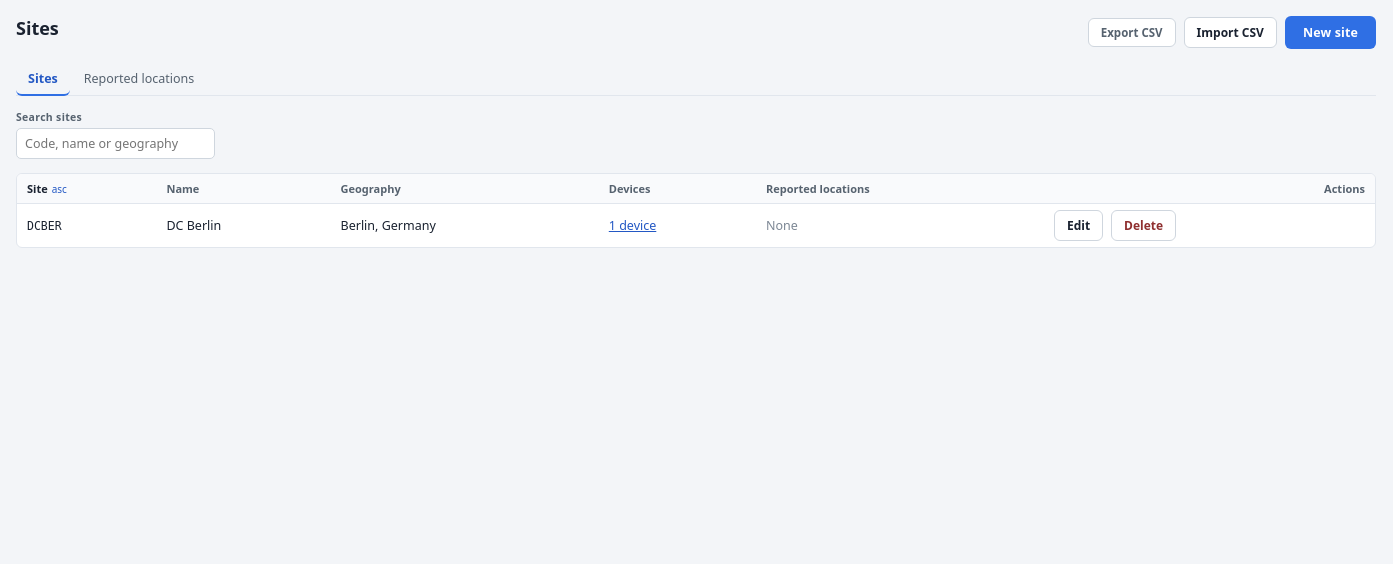
Test: site geography lookup › writes the chosen place and its map position into the site patch
Later steps or results of the test are not shown.
Click the button with aria-label "Edit DCBER": x=1078, y=226 x1=1054 y1=210 x2=1103 y2=241
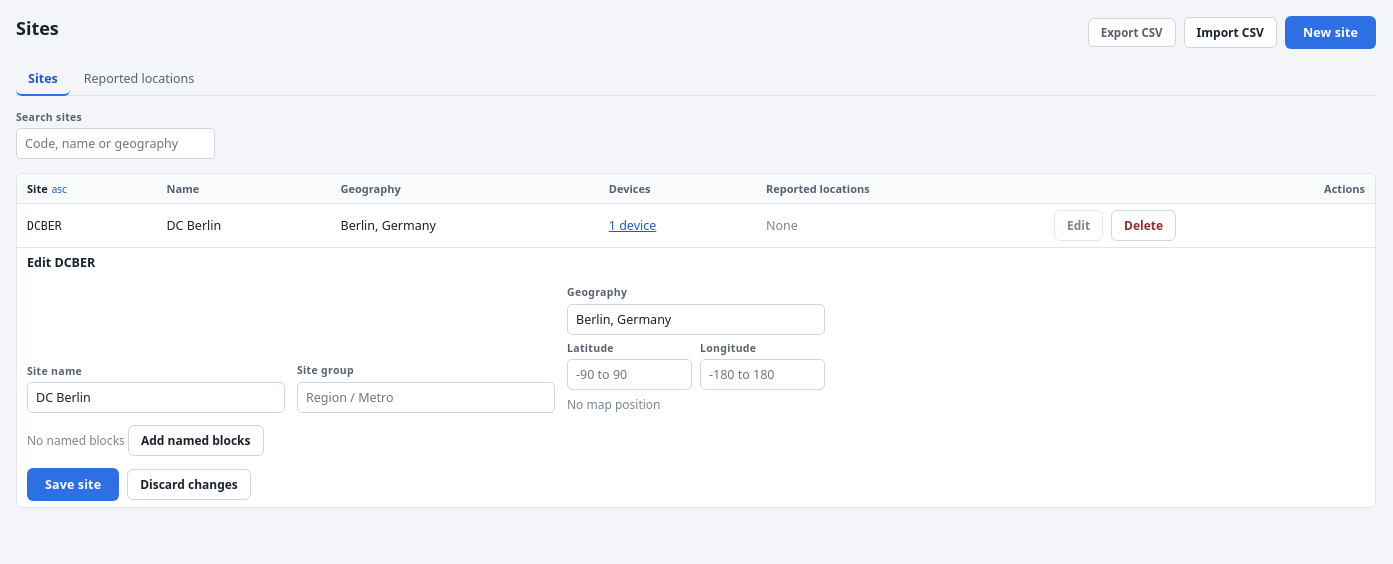
Now the text "No map position" is shown, box x1=567 y1=396 x2=660 y2=413
Replace the text in the dropdown labelled "Geography" with "Berli": x=696, y=320 x1=567 y1=304 x2=825 y2=335
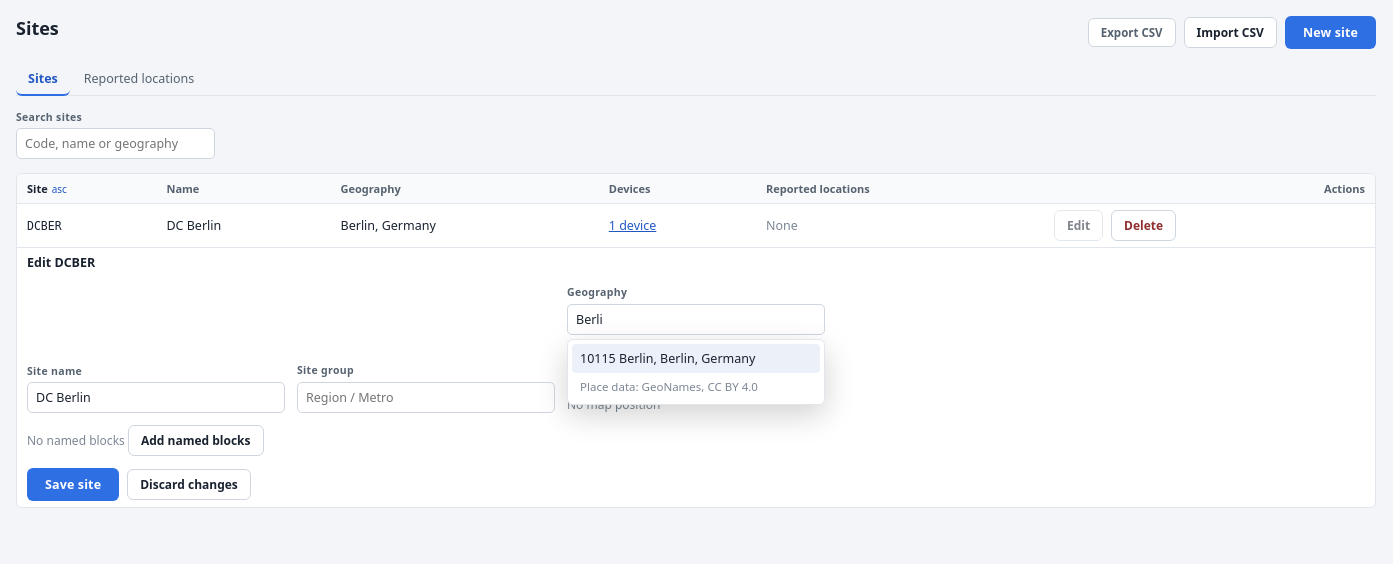
Click the option "10115 Berlin, Berlin, Germany": x=696, y=358 x1=572 y1=344 x2=820 y2=373
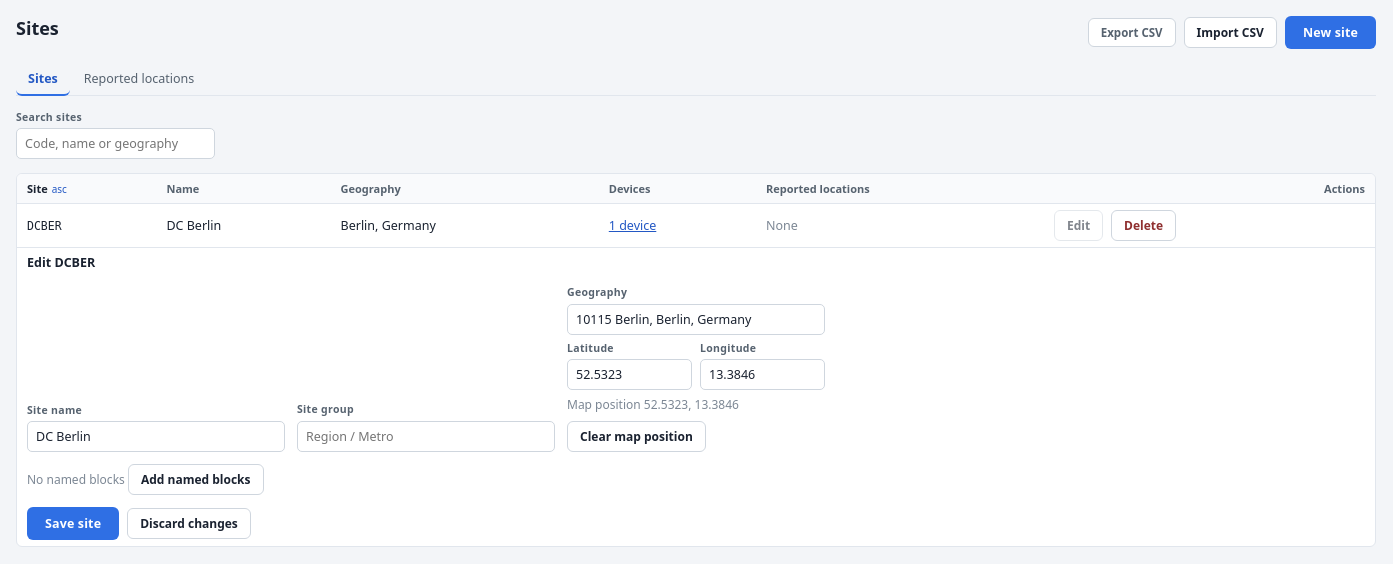
Now the dropdown labelled "Geography" holds "10115 Berlin, Berlin, Germany", box x1=567 y1=304 x2=825 y2=335
Now the text "Map position 52.5323, 13.3846 Clear map position" is shown, box x1=567 y1=396 x2=739 y2=452
